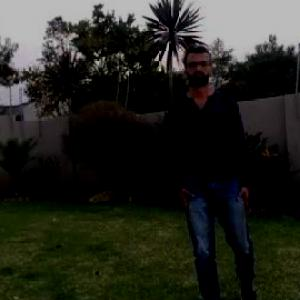follow: (163, 32, 255, 299)
